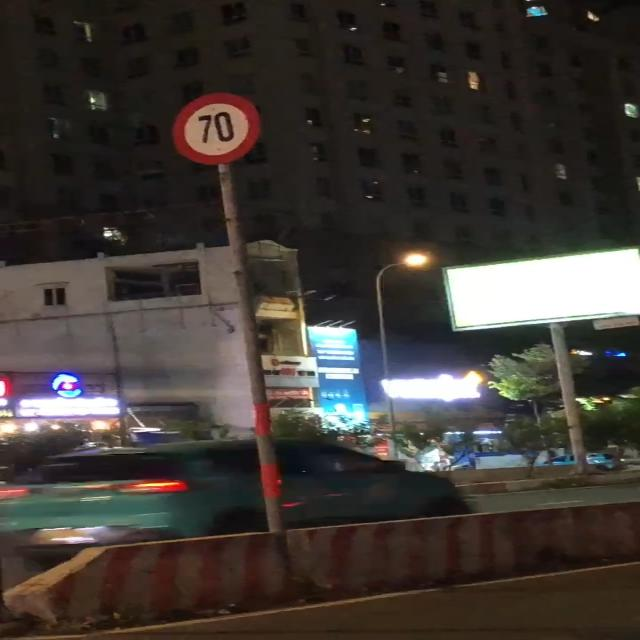Bien bao toc do toi da cho phep: (170, 88, 277, 169)
